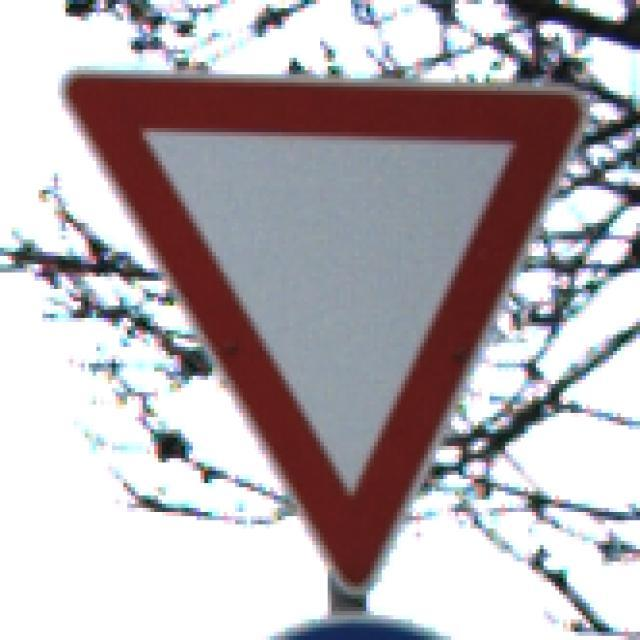give way: (50, 45, 597, 592)
